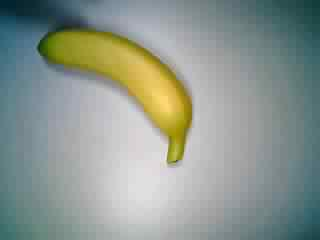banana: (35, 20, 198, 172)
